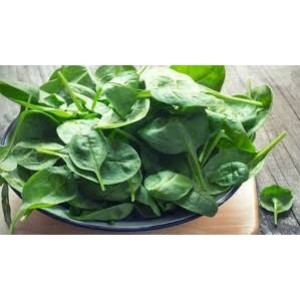spinach_brain food: (25, 73, 233, 223)
